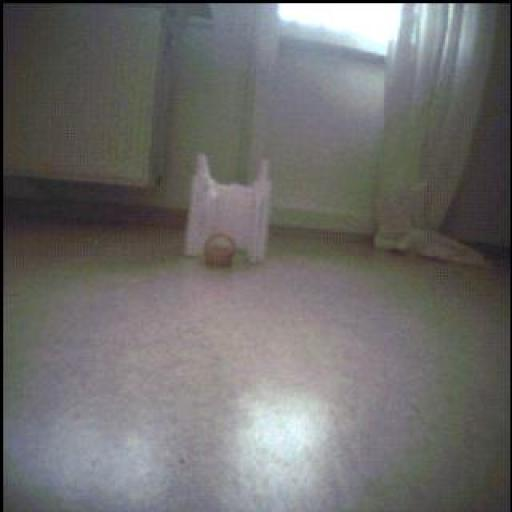Basket: (206, 233, 238, 268)
